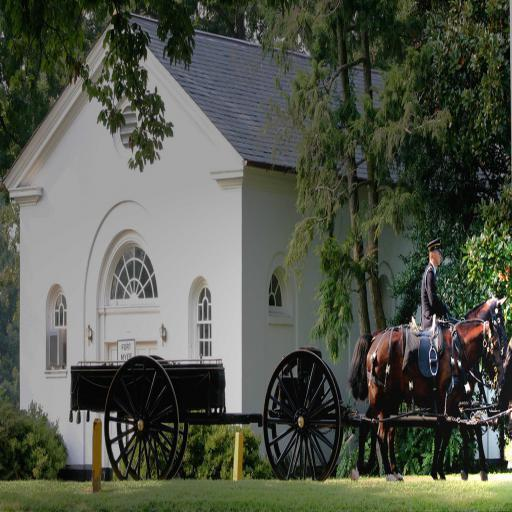horse: (348, 294, 508, 482), (344, 314, 506, 484)
